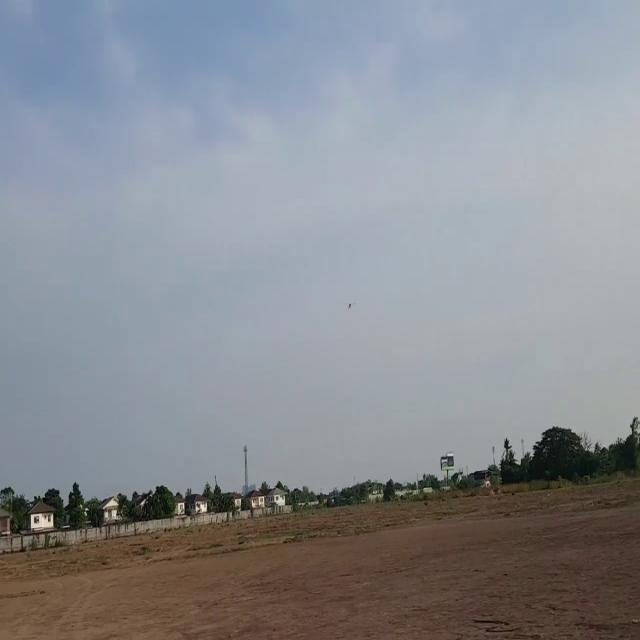iha: (349, 298, 351, 312)
